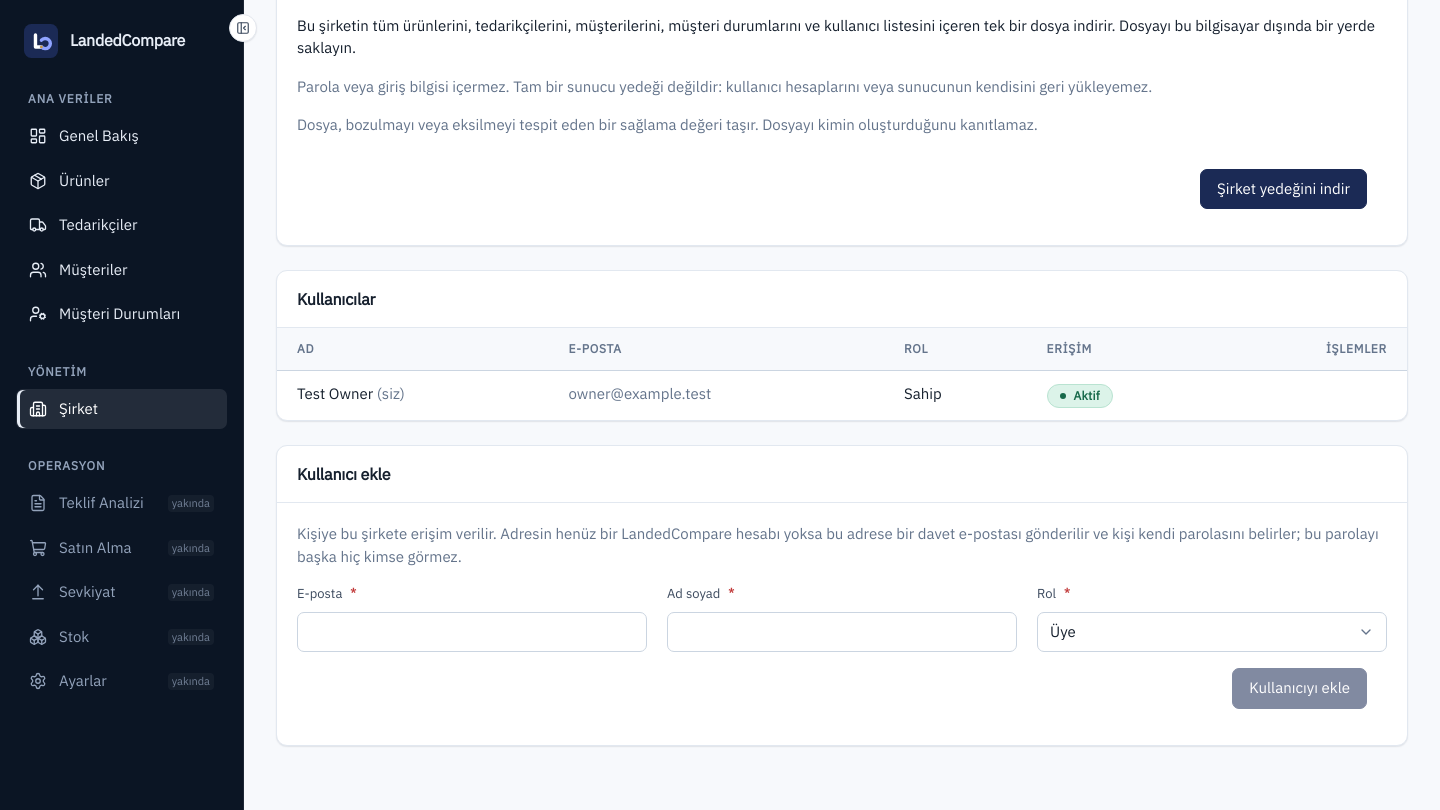
Test: the company screen for an OWNER › adds a user with one neutral sentence and shows no credential of any kind
(page scrolled)
expect the navigation bar named "Ana menü" is shown: met, box [16, 82, 227, 790]
Type "Yeni@Example.test" into the field labelled "E-posta" at (472, 632), box [297, 612, 647, 652]
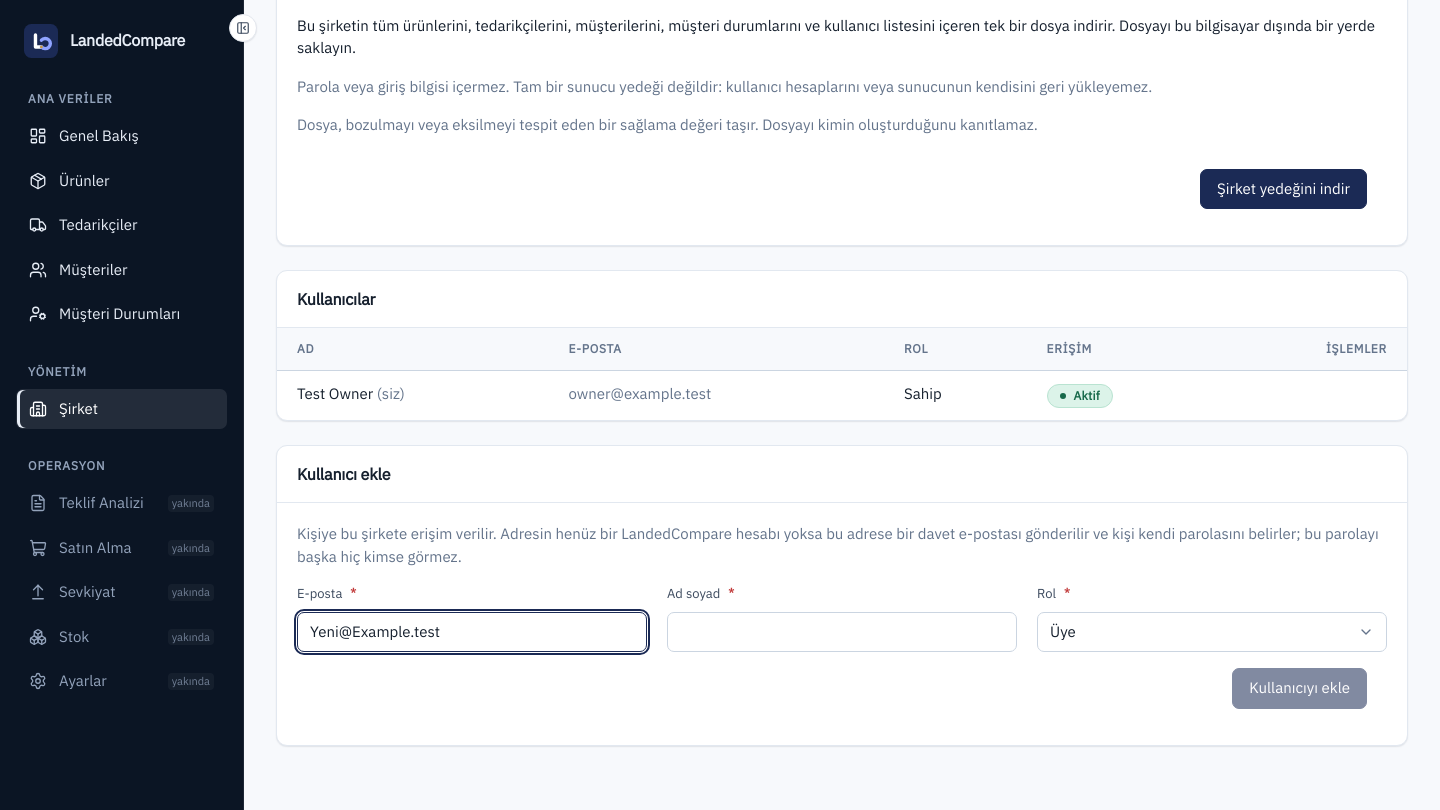
Type "Yeni Kişi" into the field labelled "Ad soyad" at (842, 632), box [667, 612, 1017, 652]
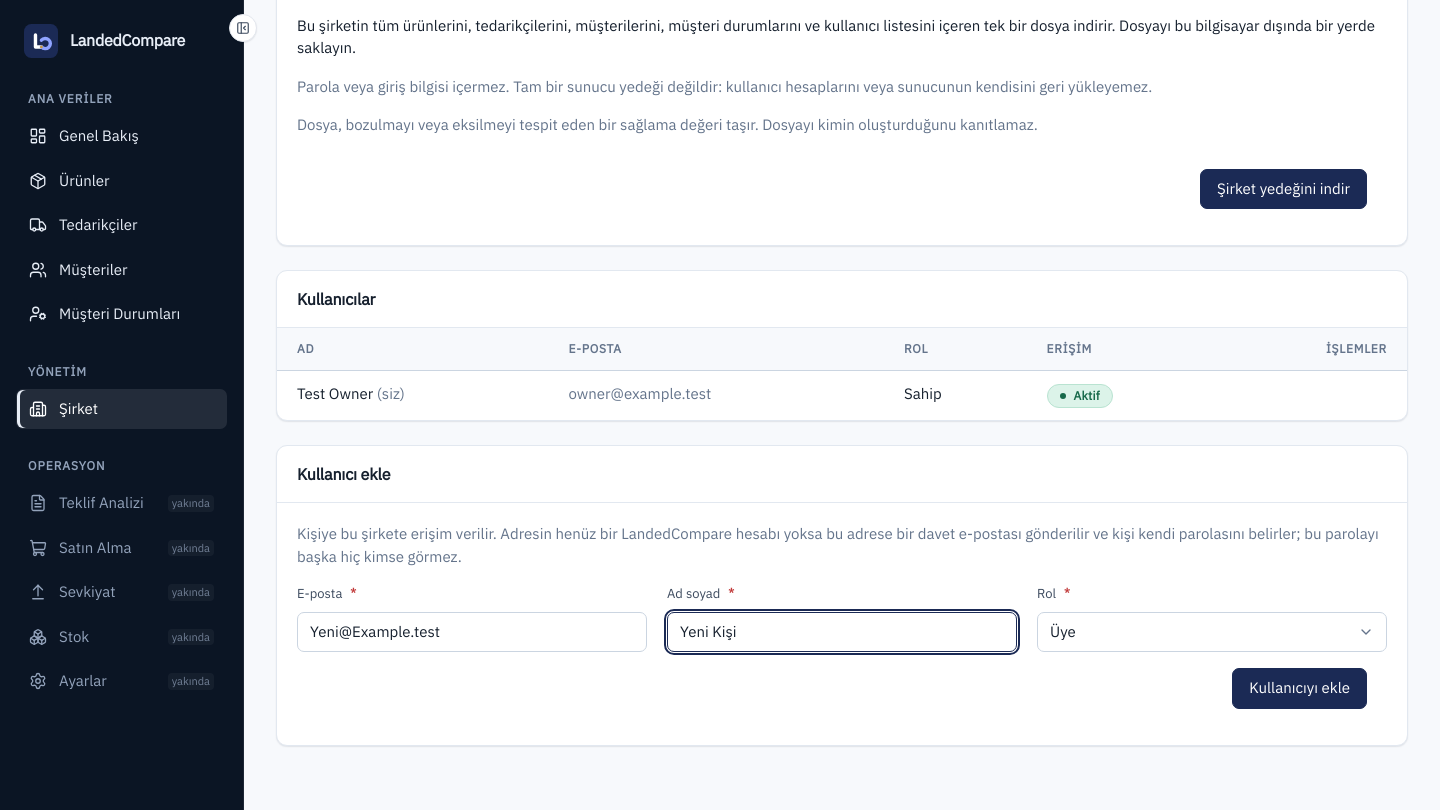
Click the button "Kullanıcıyı ekle" at (1300, 688), box [1232, 668, 1367, 709]
(page scrolled)
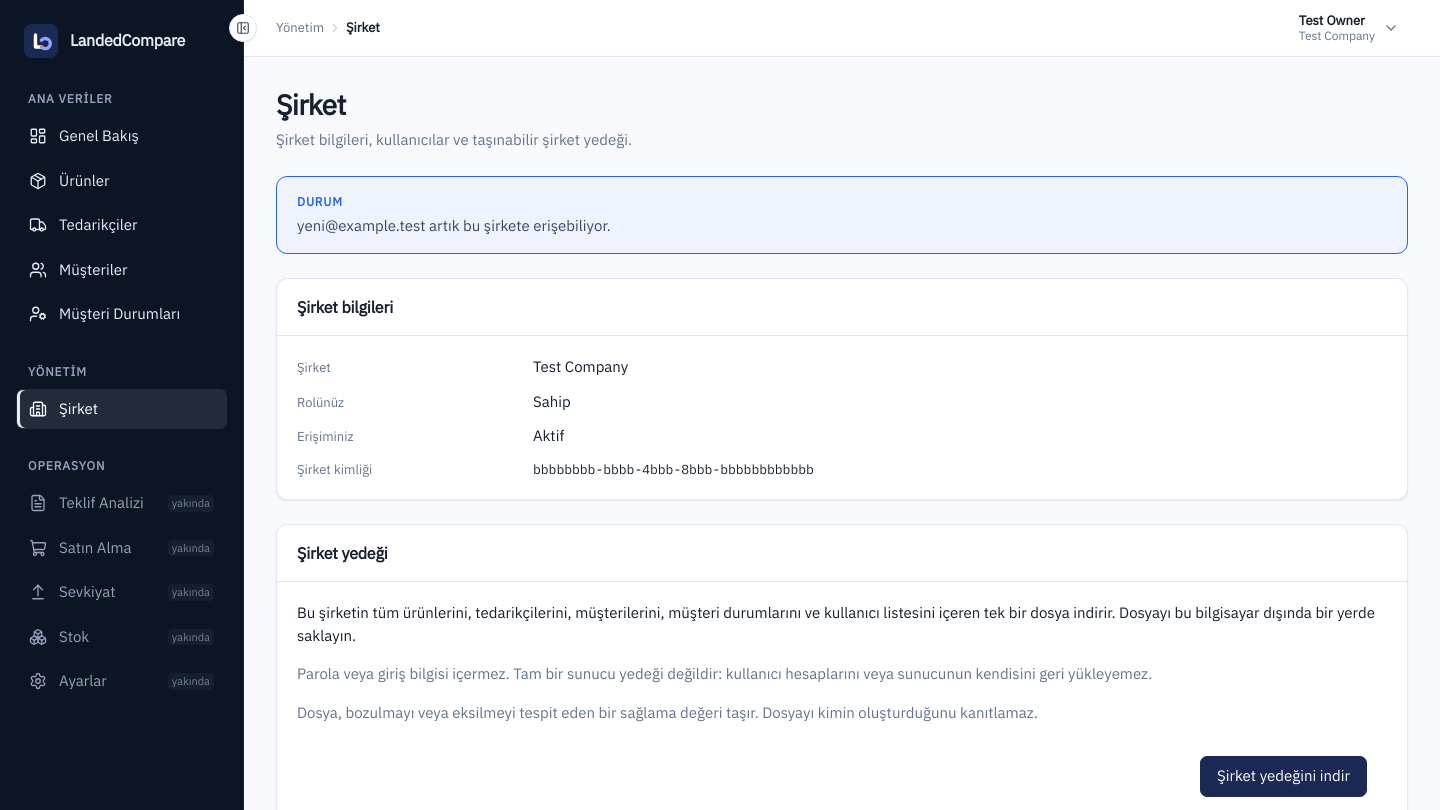
expect the text "yeni@example.test artık bu şirkete erişebiliyor." is shown: met, box [297, 215, 611, 237]
